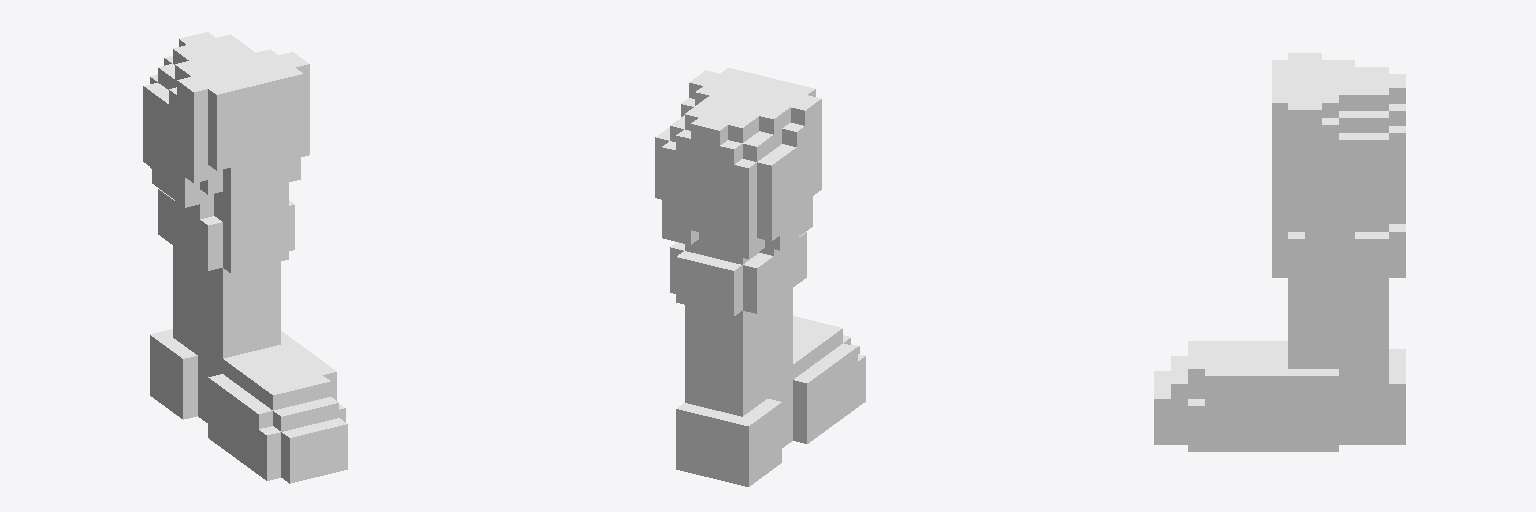
File: Minotaur1-4.obj
3 views of the same model, side by side, from view 1: azimuth 30°, elevation 25°; view 2: azimuth 150°, elevation 25°; view 3: azimuth 270°, elevation 25° (orthographic).
Parts seen in each view (by area): view 1: object 1; view 2: object 1; view 3: object 1.
Part boxes in pixels (x1,y1,x2,y2): object 1: (143, 32, 347, 483); object 1: (655, 68, 865, 486); object 1: (1154, 53, 1405, 451).
Bounding box in the file's own units: 0.8 × 2.3 × 1.5.